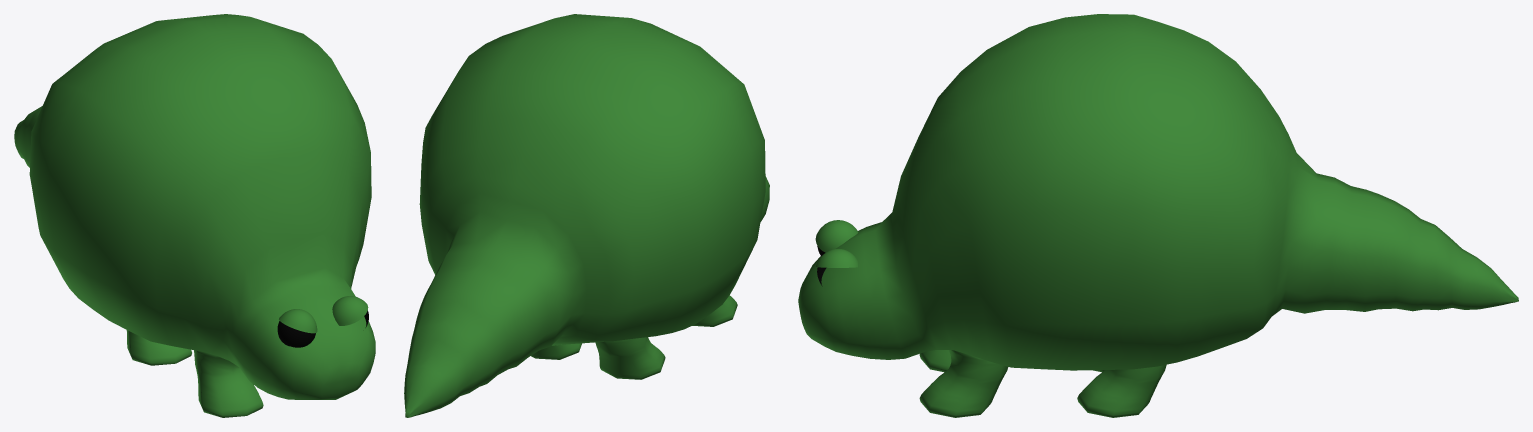
Rendered from TatuTemp.fbx.
3 renders of one model, left to right at view 1: azimuth 30°, elevation 25°; view 2: azimuth 150°, elevation 25°; view 3: azimuth 270°, elevation 25°, orthographic. The views are drawn at different scales.
Visible parts, largest first — view 1: Cube.001; view 2: Cube.001; view 3: Cube.001.
Boxes of the visible parts, x1=… form: Cube.001: x1=14, y1=14, x2=375, y2=417; Cube.001: x1=404, y1=14, x2=769, y2=417; Cube.001: x1=798, y1=14, x2=1518, y2=417.
Size of the model in its own units: 353 by 375 by 696.
